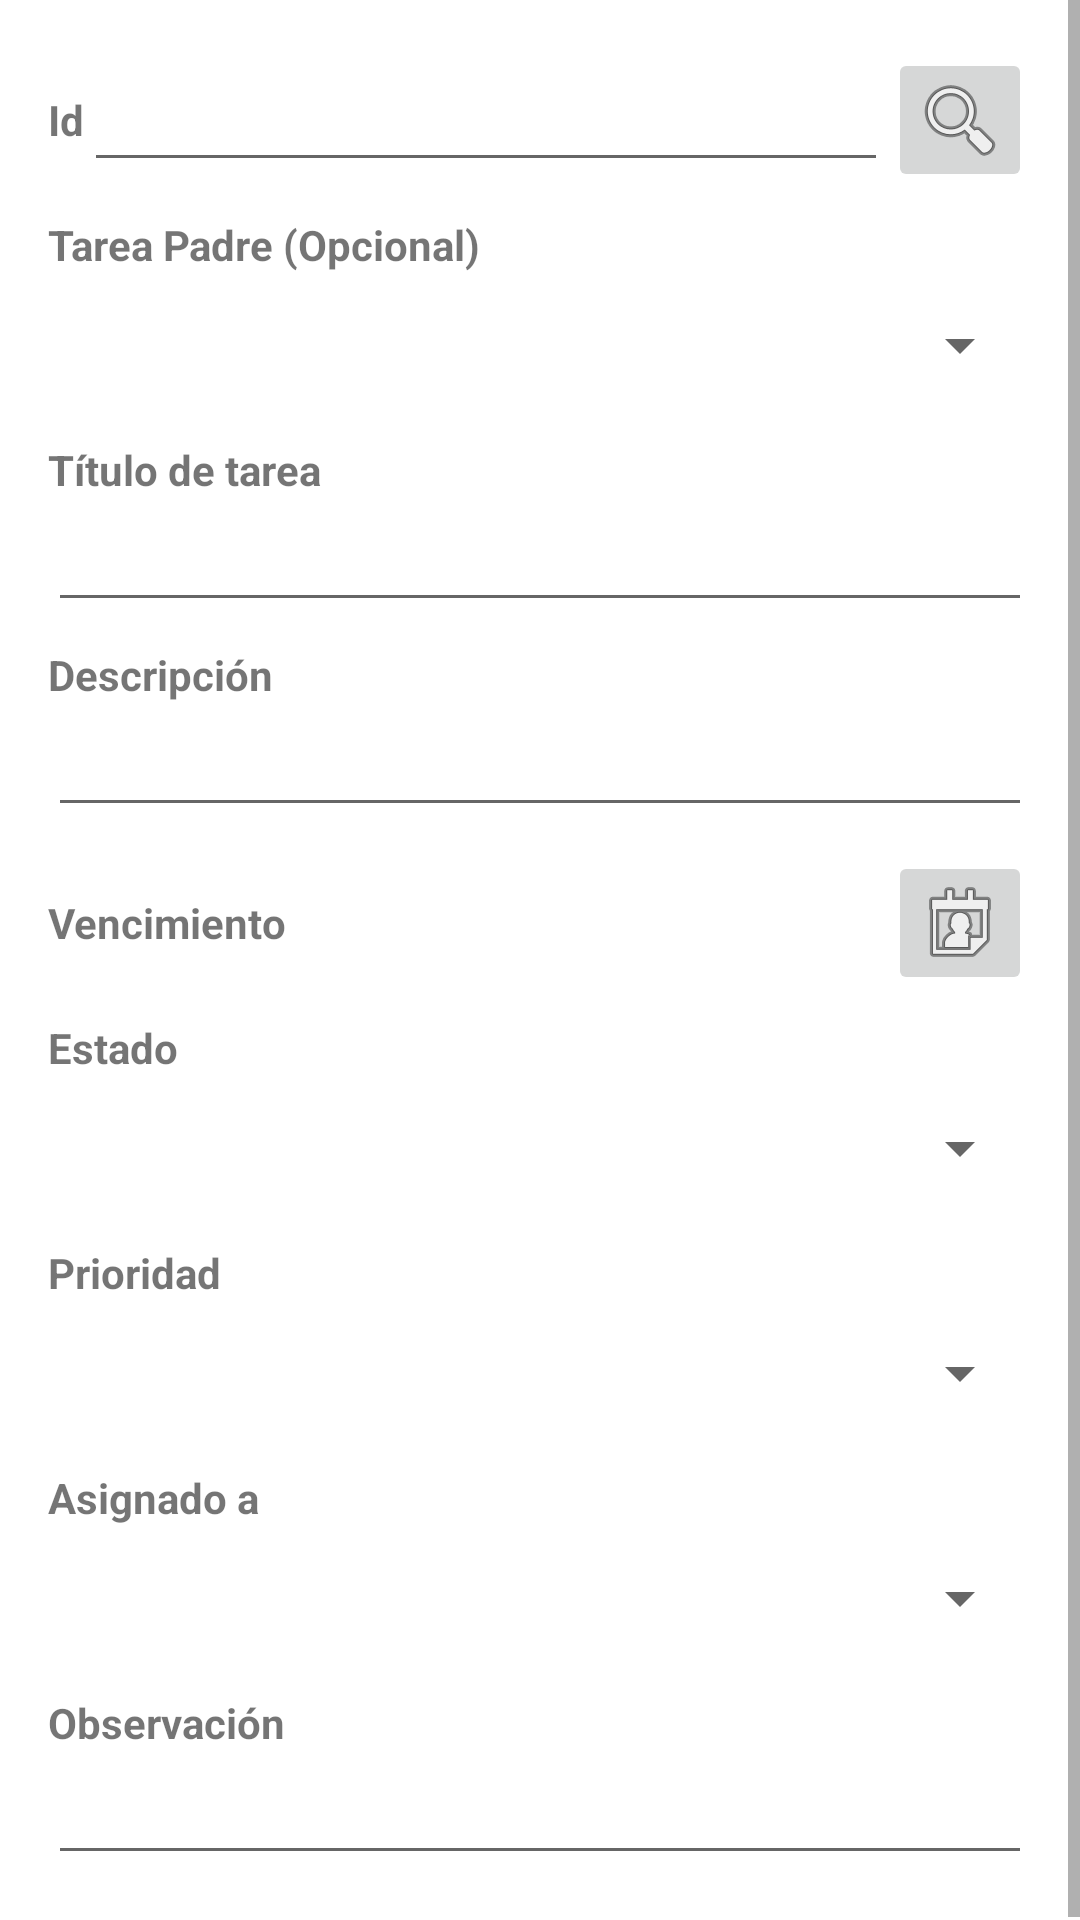

Locate icon controls on the screen. Image size 1080px x 1920px, boxes as (x1, y1, x2, y2).
Vencimiento: (900, 869, 1020, 977)
